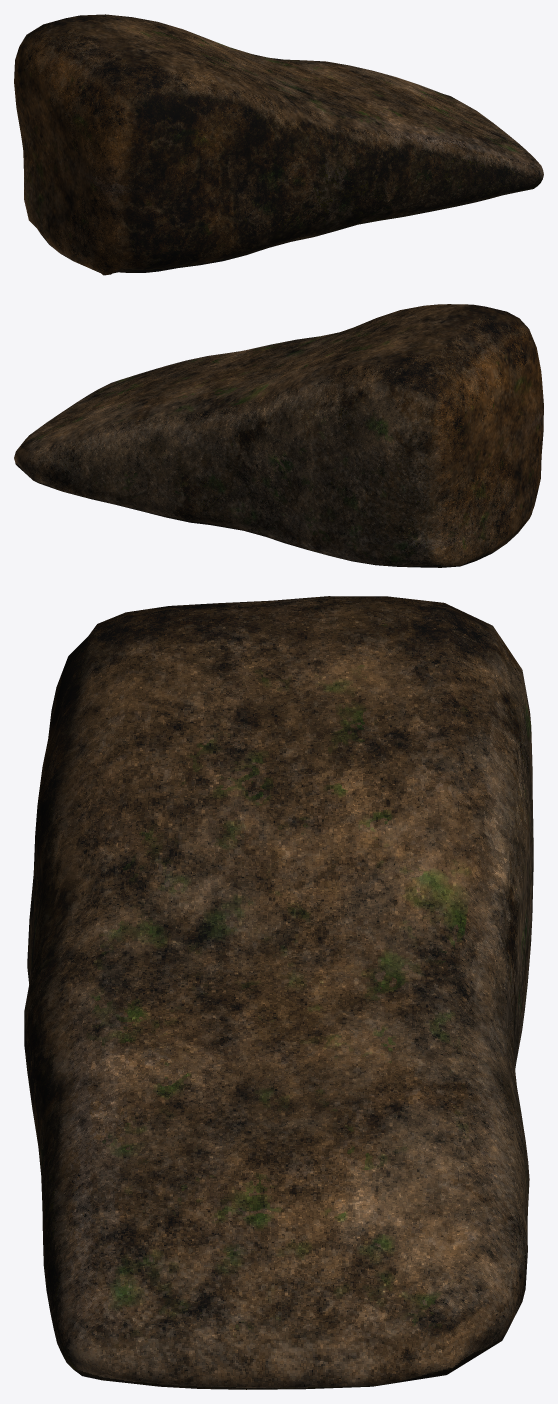
The model's file is SM_TI_RockBlock_1.gltf.
3 renders of one model, top to bottom at view 1: azimuth 30°, elevation 25°; view 2: azimuth 150°, elevation 25°; view 3: azimuth 270°, elevation 25°, orthographic. The views are drawn at different scales.
Visible parts, largest first — view 1: SM_TI_RockBlock_1; view 2: SM_TI_RockBlock_1; view 3: SM_TI_RockBlock_1.
Part boxes in pixels (x1,y1,x2,y2): SM_TI_RockBlock_1: (14, 14, 543, 275); SM_TI_RockBlock_1: (14, 304, 543, 567); SM_TI_RockBlock_1: (24, 596, 533, 1389).
Size of the model in its own units: 18.35 by 7.81 by 9.01.
Materials: 1 (1 with a texture image).
